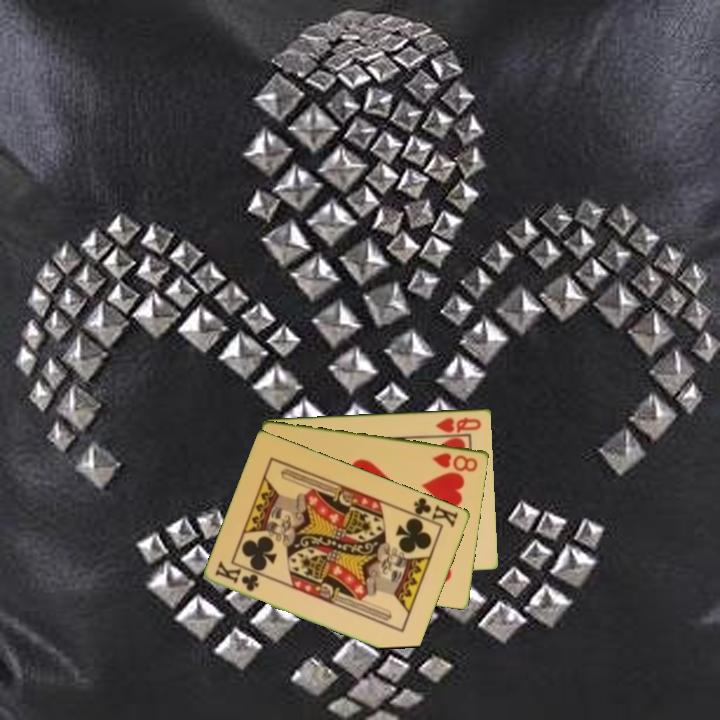8h: (430, 449, 481, 474)
Kc: (405, 494, 462, 530), (212, 558, 262, 594)
Qh: (433, 413, 484, 435)
